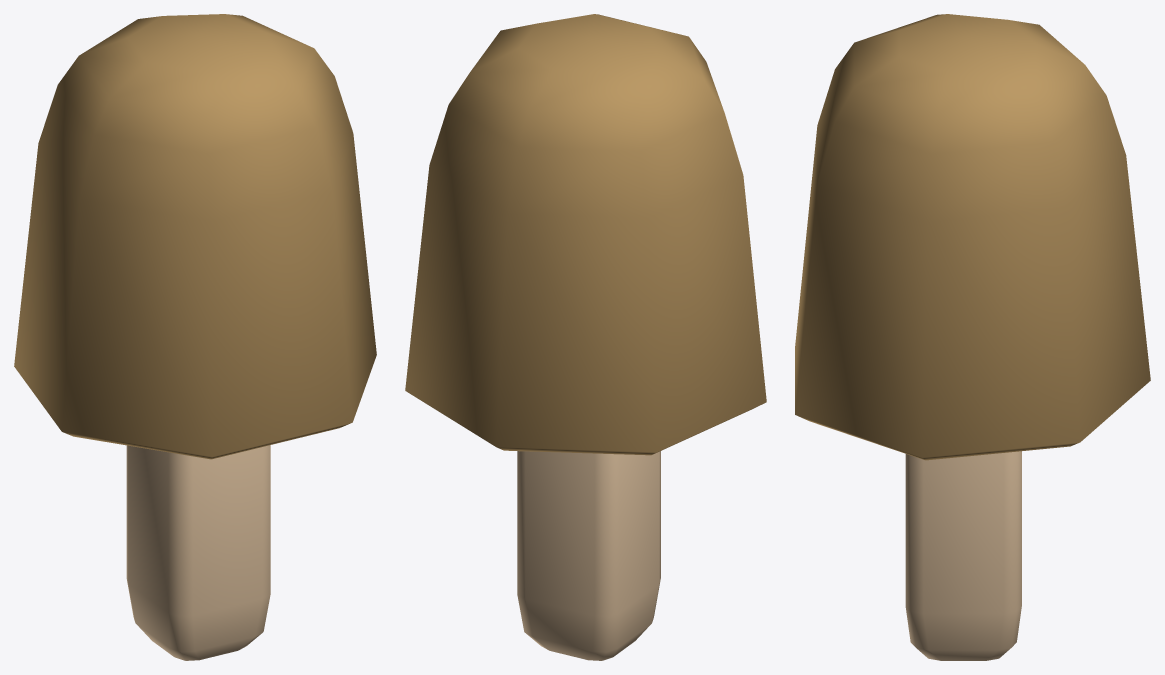
Rendered from Tall Mushroom.fbx.
The picture shows the model from 3 angles, left to right: view 1: azimuth 30°, elevation 25°; view 2: azimuth 150°, elevation 25°; view 3: azimuth 270°, elevation 25°; orthographic projection.
Visible parts, largest first — view 1: Stem.002; view 2: Stem.002; view 3: Stem.002.
Boxes of the visible parts, bbox=[...] form: Stem.002: bbox=[14, 14, 376, 660]; Stem.002: bbox=[405, 14, 766, 660]; Stem.002: bbox=[795, 14, 1150, 660].
Size of the model in its own units: 65.97 by 121 by 64.32.
